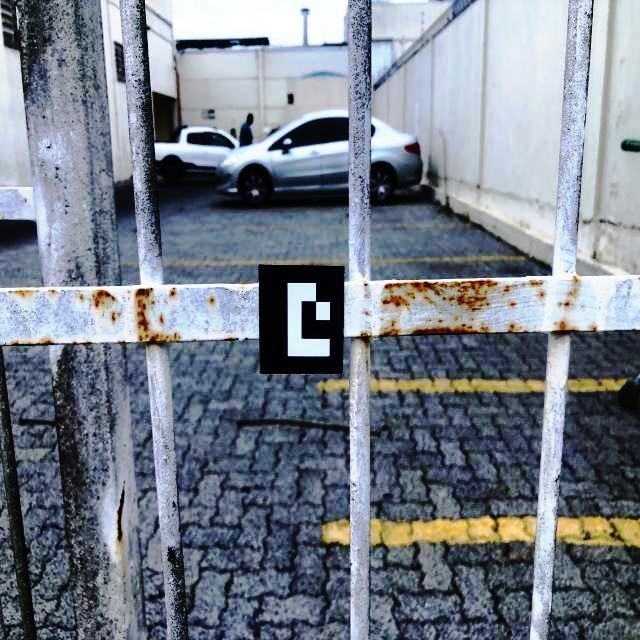Corrosion: (380, 278, 500, 315), (134, 286, 180, 344), (407, 315, 491, 336), (116, 481, 126, 543), (90, 288, 117, 309), (379, 317, 401, 338), (552, 317, 579, 334), (9, 338, 55, 345), (8, 288, 40, 296), (502, 284, 517, 296), (507, 322, 522, 333), (110, 309, 121, 322), (558, 300, 574, 308), (567, 288, 578, 298), (529, 279, 544, 286), (360, 274, 368, 286), (168, 287, 176, 298), (571, 274, 579, 284), (235, 284, 253, 288), (361, 332, 368, 341), (589, 325, 598, 332), (225, 337, 240, 341), (159, 314, 164, 325), (538, 291, 545, 298), (48, 288, 56, 293), (510, 301, 516, 307), (79, 294, 84, 301), (365, 310, 370, 316), (210, 297, 215, 303), (521, 282, 525, 287), (117, 341, 126, 343), (524, 329, 528, 333), (84, 342, 92, 344), (427, 319, 432, 322), (632, 328, 636, 331), (128, 290, 131, 294), (381, 318, 384, 321), (638, 276, 640, 280), (73, 342, 77, 344), (365, 295, 368, 297), (581, 306, 584, 308), (245, 338, 247, 340), (439, 312, 441, 314)
